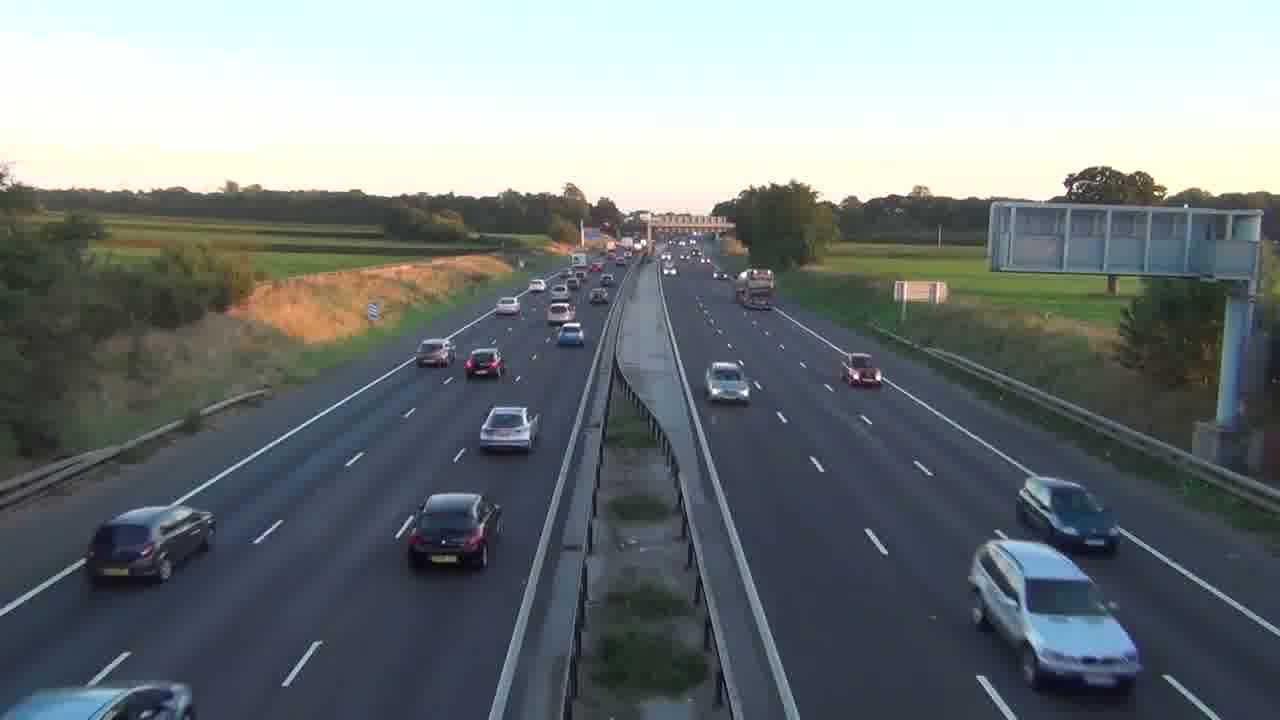car: (394, 491, 503, 570), (1015, 475, 1122, 554), (1, 680, 196, 720), (479, 404, 542, 453), (704, 360, 752, 405), (839, 352, 882, 388), (464, 345, 504, 379), (557, 322, 585, 348)
truck: (967, 533, 1143, 694), (84, 503, 217, 585), (735, 269, 776, 309)
